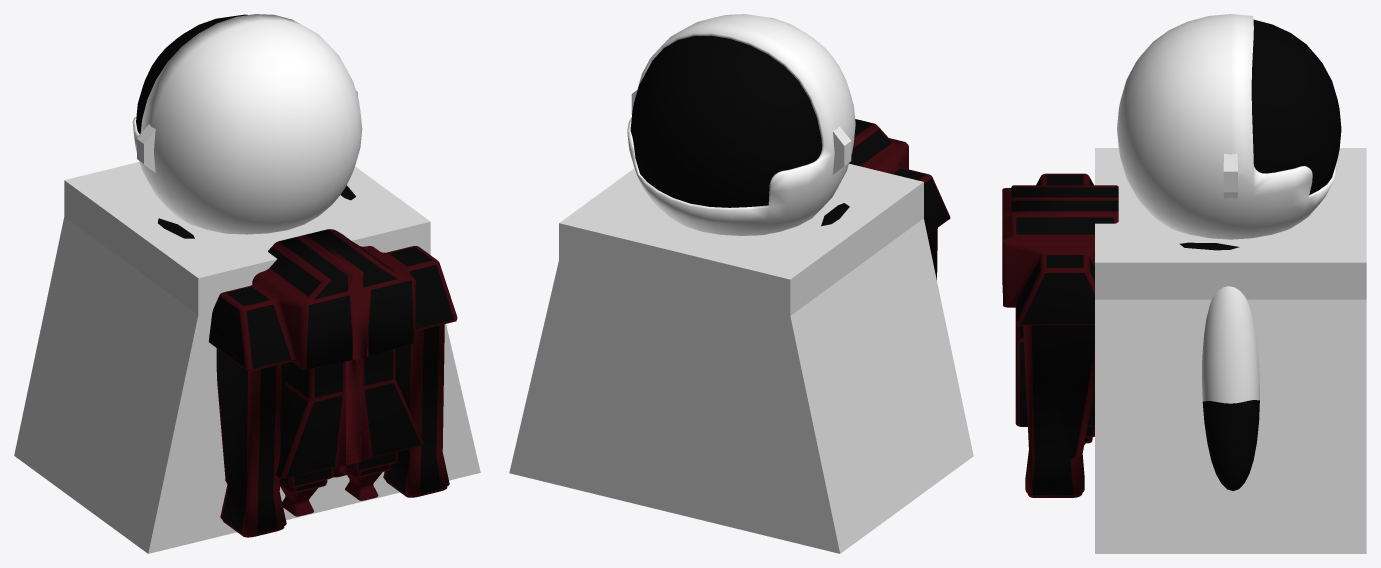
File: Digi_astronaut_player3.glb
3 renders of one model, left to right at view 1: azimuth 30°, elevation 25°; view 2: azimuth 150°, elevation 25°; view 3: azimuth 270°, elevation 25°, orthographic.
Parts seen in each view (by area): view 1: Cube.006, Cube.007, Cube, Cube.001, Cube.002, Cube.008; view 2: Cube.006, Cube.001, Cube, Cube.007, Cube.002; view 3: Cube.006, Cube, Cube.007, Cube.001, Cube.005, Cube.002.
Part boxes in pixels (left/top/right/bottom): Cube.006: left=14, top=162, right=480, bottom=553; Cube.007: left=208, top=229, right=457, bottom=537; Cube: left=132, top=14, right=362, bottom=234; Cube.001: left=136, top=14, right=247, bottom=133; Cube.002: left=137, top=91, right=357, bottom=172; Cube.008: left=158, top=185, right=355, bottom=385; Cube.006: left=509, top=163, right=973, bottom=553; Cube.001: left=630, top=35, right=821, bottom=207; Cube: left=627, top=14, right=855, bottom=235; Cube.007: left=849, top=119, right=950, bottom=279; Cube.002: left=631, top=90, right=851, bottom=174; Cube.006: left=1095, top=148, right=1366, bottom=553; Cube: left=1117, top=14, right=1336, bottom=239; Cube.007: left=1002, top=173, right=1118, bottom=497; Cube.001: left=1251, top=19, right=1341, bottom=194; Cube.005: left=1202, top=286, right=1259, bottom=490; Cube.002: left=1223, top=153, right=1237, bottom=198.
Bounding box in the file's own units: 2.9 × 4.02 × 2.68.
